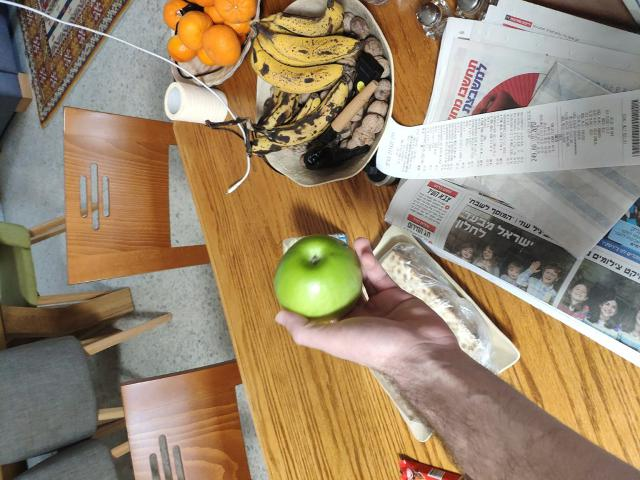apple: (268, 230, 369, 326)
